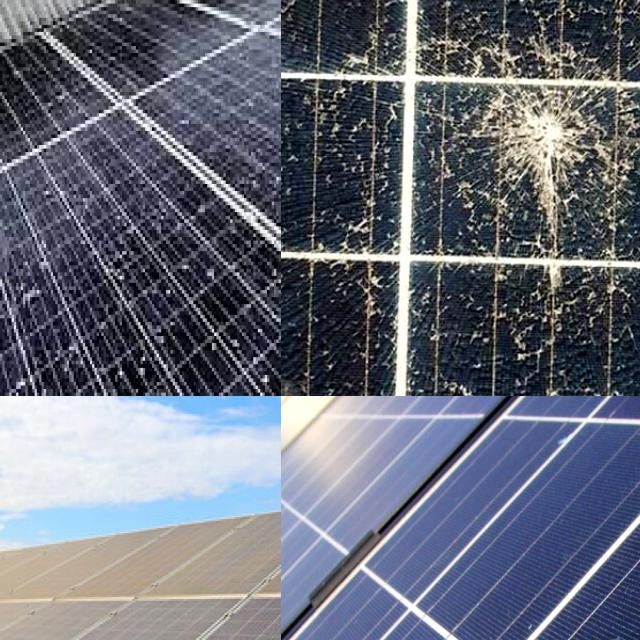crack: (281, 396, 640, 640)
dust: (50, 132, 146, 276), (133, 265, 233, 396), (0, 287, 112, 396), (64, 540, 234, 594), (0, 166, 42, 274), (246, 270, 281, 386), (191, 60, 229, 146), (259, 79, 281, 203), (237, 518, 281, 576), (167, 197, 203, 252)
hotspot: (435, 41, 640, 210), (452, 274, 640, 396)
